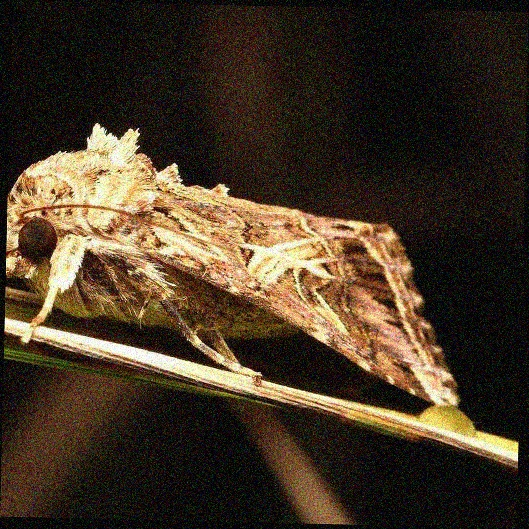Spodoptera litura: (6, 126, 465, 403)
